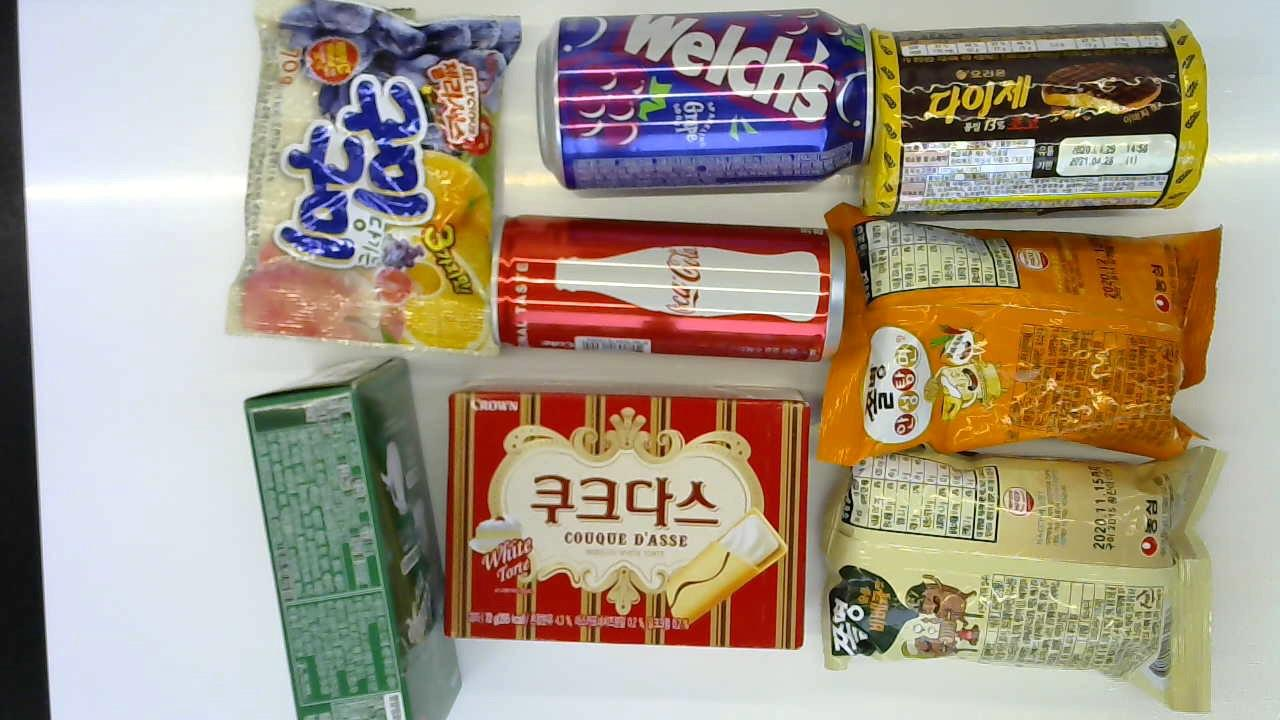coke: (488, 207, 853, 361)
couque_coffee: (239, 360, 459, 720)
couque_white: (435, 373, 817, 653)
diget_choco: (832, 14, 1214, 237)
gumi_gumi: (222, 2, 515, 369)
jjolbyung_noodle: (800, 192, 1233, 472)
jjolbyung_ori: (817, 438, 1226, 713)
welchs: (532, 0, 883, 188)
